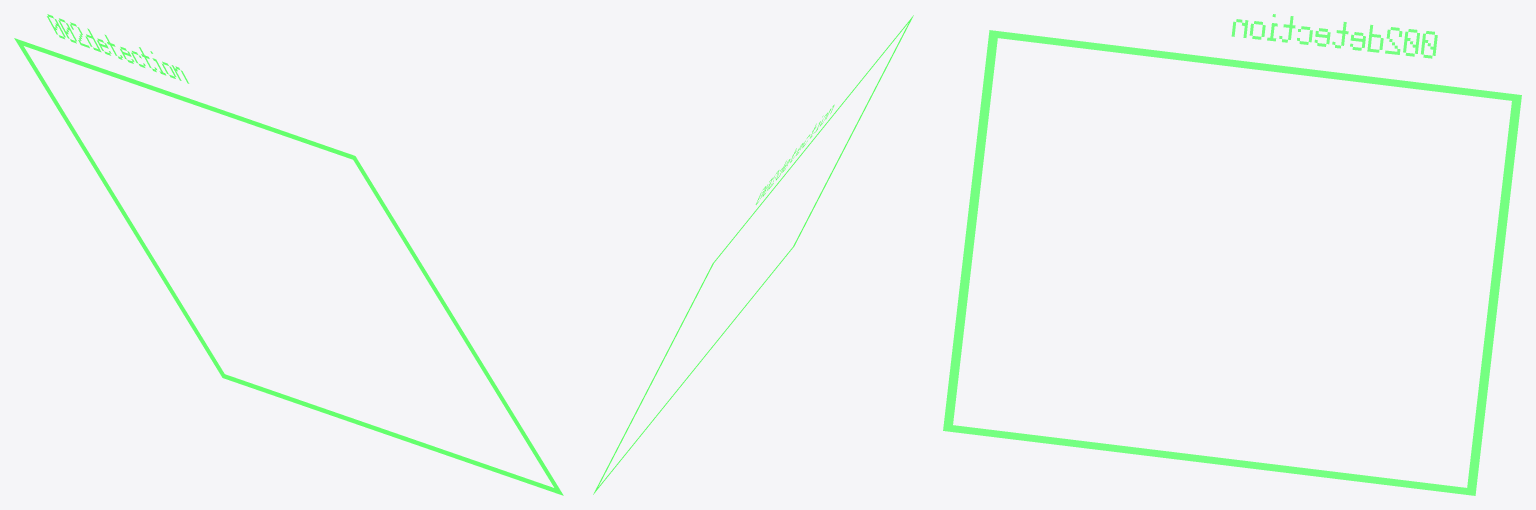
Rendered from 002detection.glb.
3 views of the same model, side by side, from view 1: azimuth 30°, elevation 25°; view 2: azimuth 150°, elevation 25°; view 3: azimuth 270°, elevation 25° (orthographic). The views are drawn at different scales.
Parts seen in each view (by area): view 1: Detection02, Text.001; view 2: Detection02, Text.001; view 3: Detection02, Text.001.
Part boxes in pixels (<box>): Detection02: <box>14,38,563,495</box>; Text.001: <box>47,14,189,83</box>; Detection02: <box>593,15,913,494</box>; Text.001: <box>755,104,834,204</box>; Detection02: <box>943,30,1521,495</box>; Text.001: <box>1231,14,1437,58</box>.
Bounding box in the file's own units: 0.2775 × 0.5105 × 0.6621.
